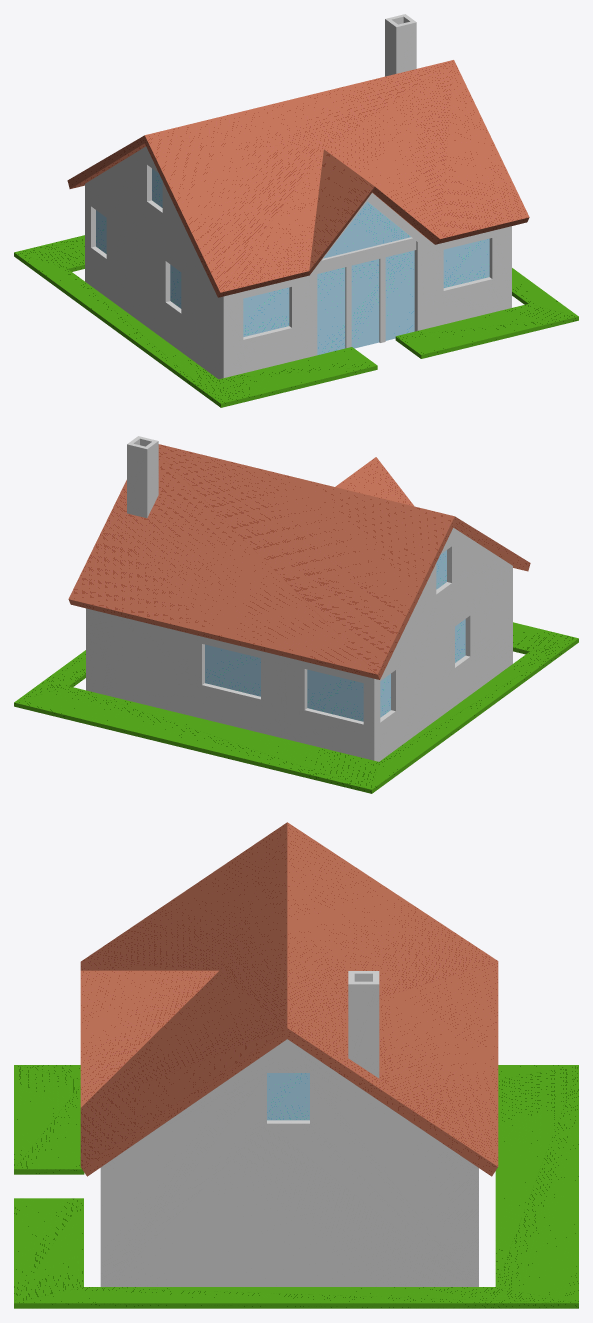
The model's file is house1.fbx.
The picture shows the model from 3 angles, top to bottom: view 1: azimuth 30°, elevation 25°; view 2: azimuth 150°, elevation 25°; view 3: azimuth 270°, elevation 25°; orthographic projection. The views are drawn at different scales.
Visible parts, largest first — view 1: house-001; view 2: house-001; view 3: house-001.
Part boxes in pixels (<box>): house-001: <box>14,14,578,407</box>; house-001: <box>14,436,578,793</box>; house-001: <box>14,822,578,1308</box>.
Size of the model in its own units: 831 by 500 by 833.
1 material, 1 textured.
